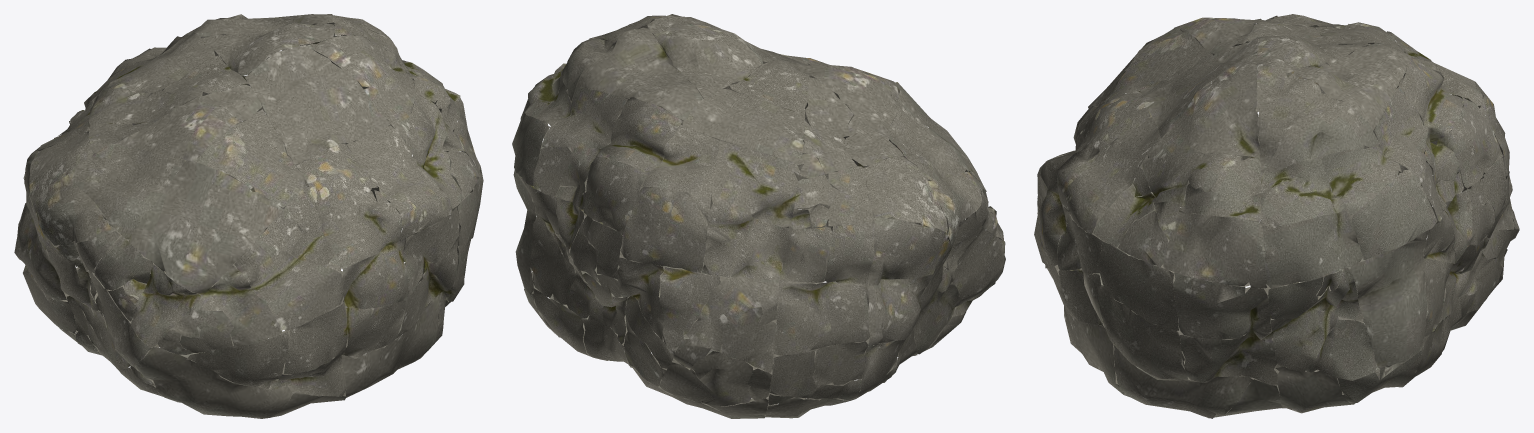
File: rock.glb
The picture shows the model from 3 angles, left to right: view 1: azimuth 30°, elevation 25°; view 2: azimuth 150°, elevation 25°; view 3: azimuth 270°, elevation 25°; orthographic projection. The views are drawn at different scales.
Parts seen in each view (by area): view 1: Mesh_0; view 2: Mesh_0; view 3: Mesh_0.
Part boxes in pixels (x1,y1,x2,y2): Mesh_0: [14, 14, 483, 418]; Mesh_0: [512, 14, 1005, 418]; Mesh_0: [1034, 14, 1519, 418].
Bounding box in the file's own units: 1.37 × 1 × 1.28.
1 material, 1 textured.
